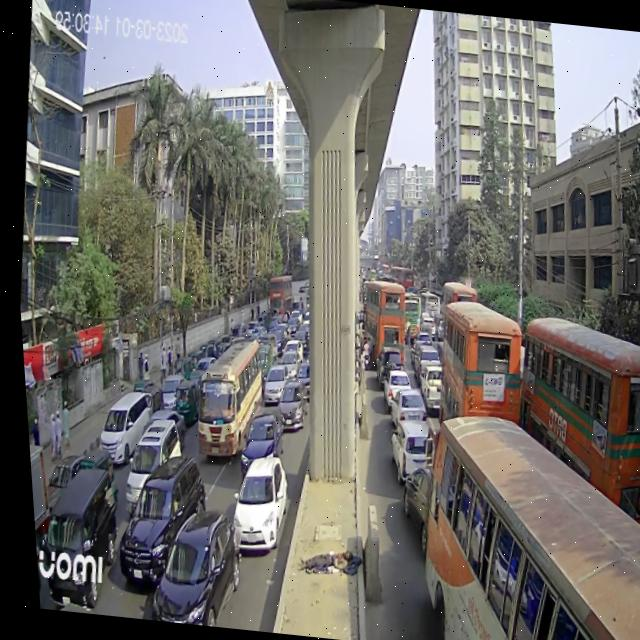cng: (160, 365, 202, 432)
